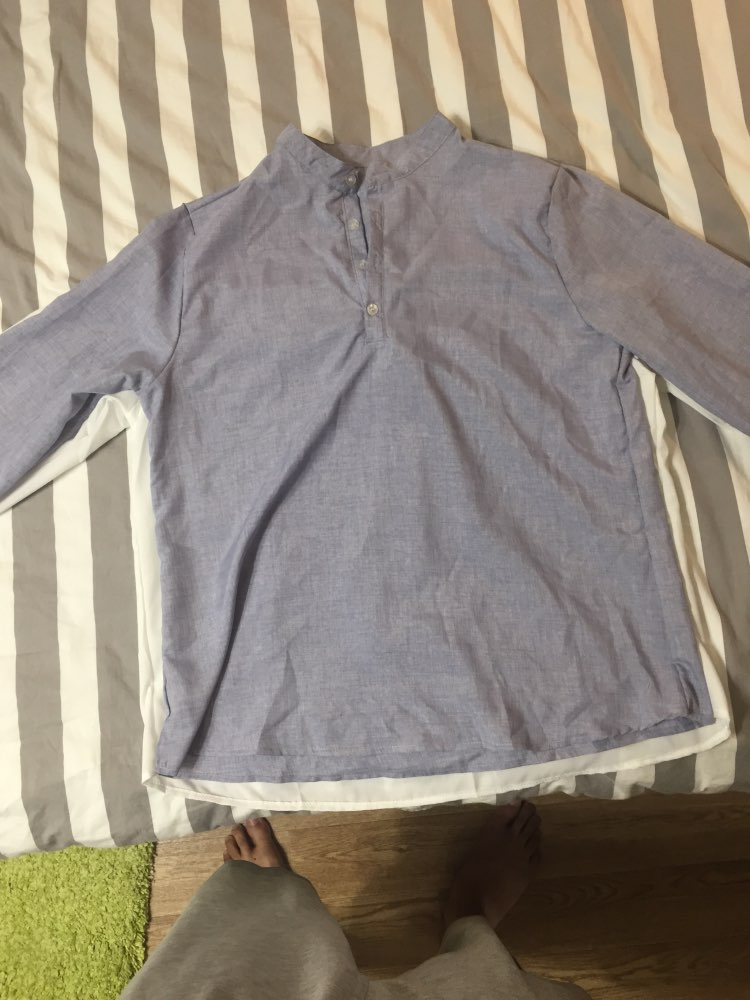shirts: (57, 127, 750, 782)
